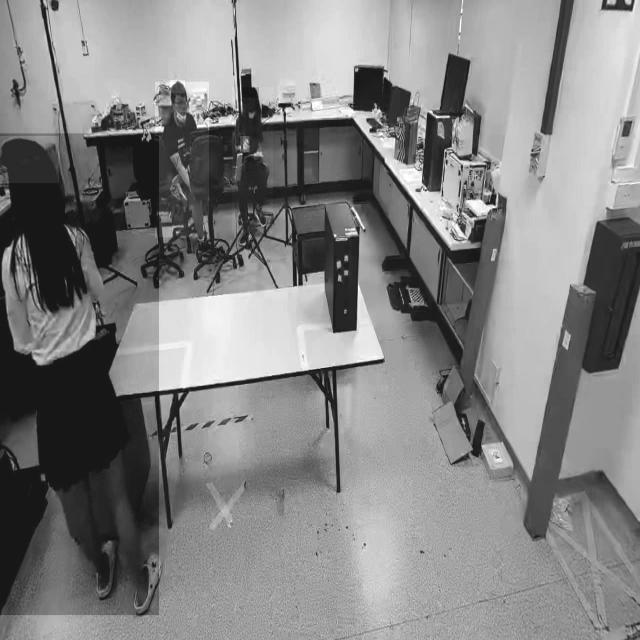hand_noglove: (240, 136, 250, 153), (242, 152, 255, 161)
head_nohelmet: (0, 136, 60, 184), (170, 80, 186, 94), (242, 87, 260, 99)
person: (0, 133, 160, 616), (155, 82, 209, 238), (232, 87, 274, 234)
shoes: (238, 222, 254, 252), (253, 203, 268, 229)
